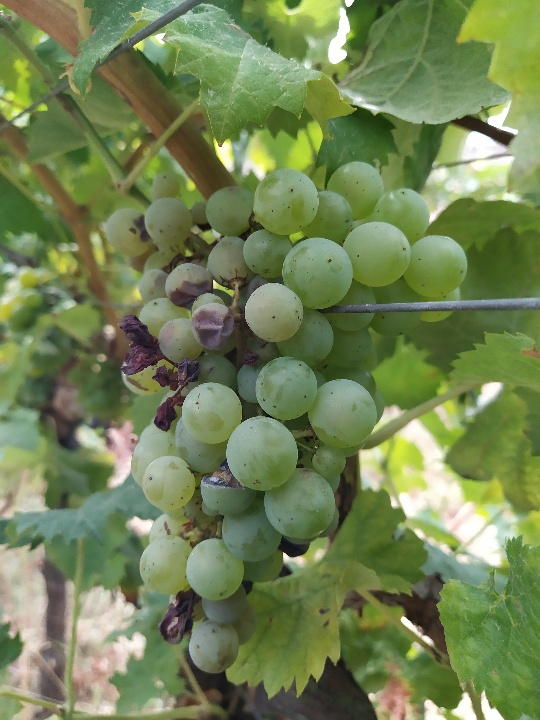grape: (114, 160, 472, 678)
